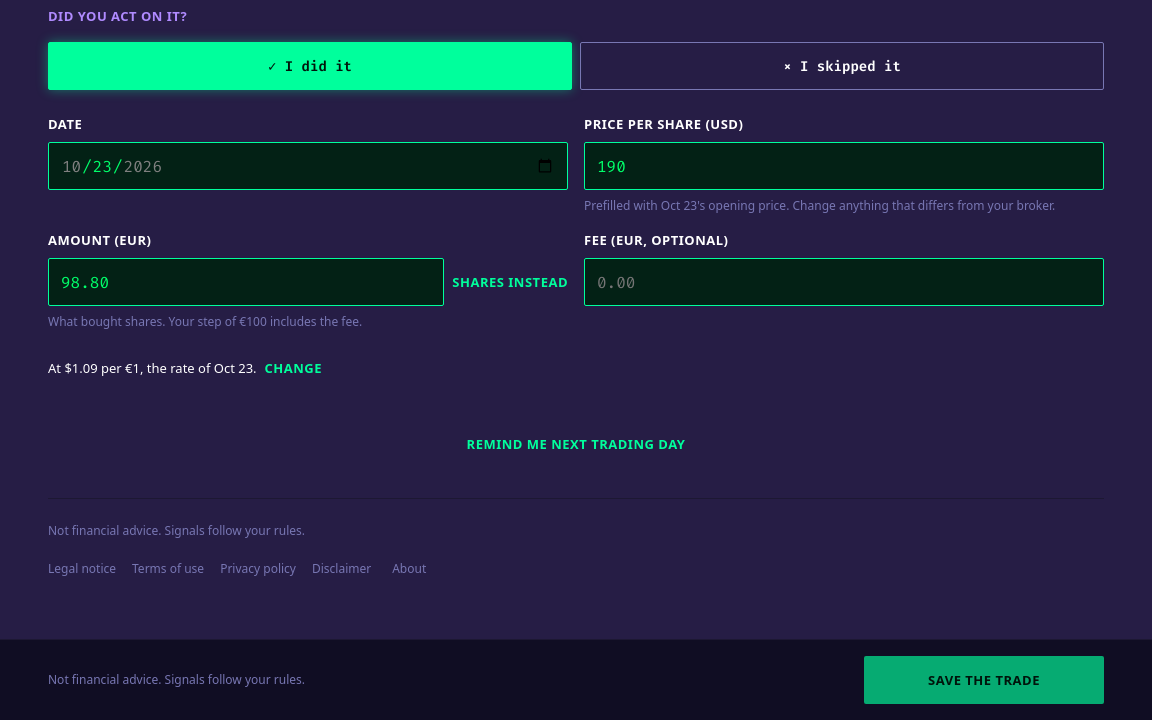
SignalPage › shows what the server refused under its field
The image size is (1152, 720).
(page scrolled)
Click the button "Save the trade" at (984, 680), box top-left (864, 656), bottom-right (1104, 704)
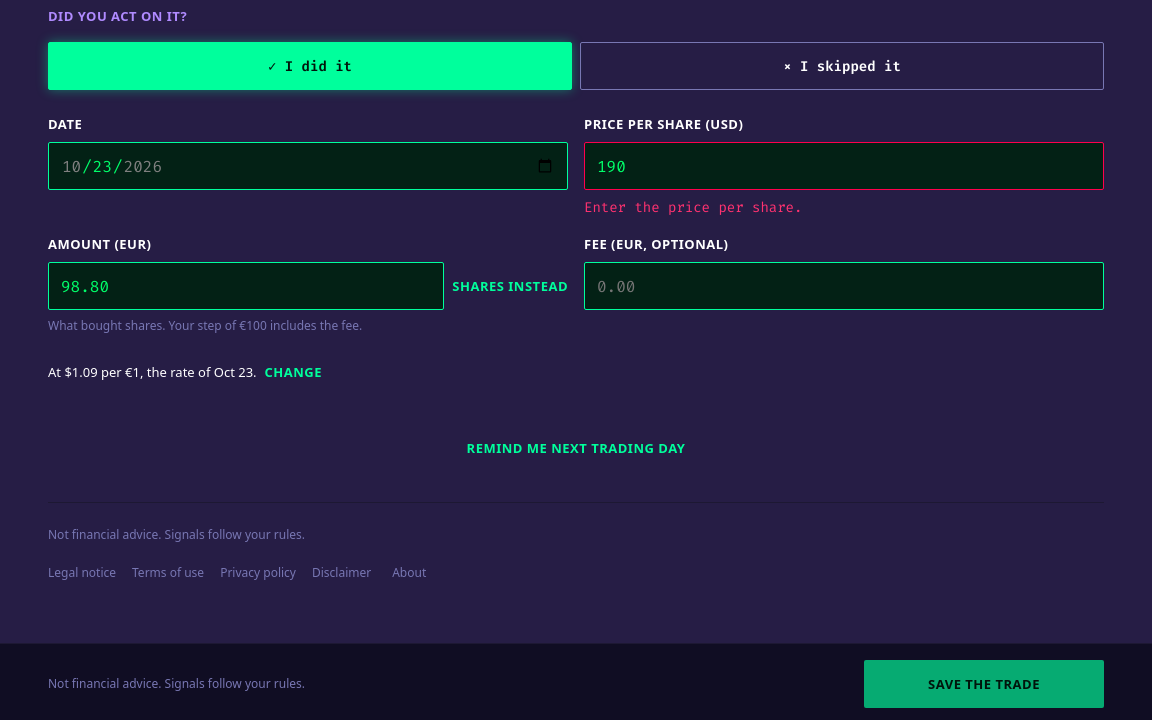
Expected: the text "Enter the price per share." is shown, top-left (584, 198), bottom-right (802, 217)
